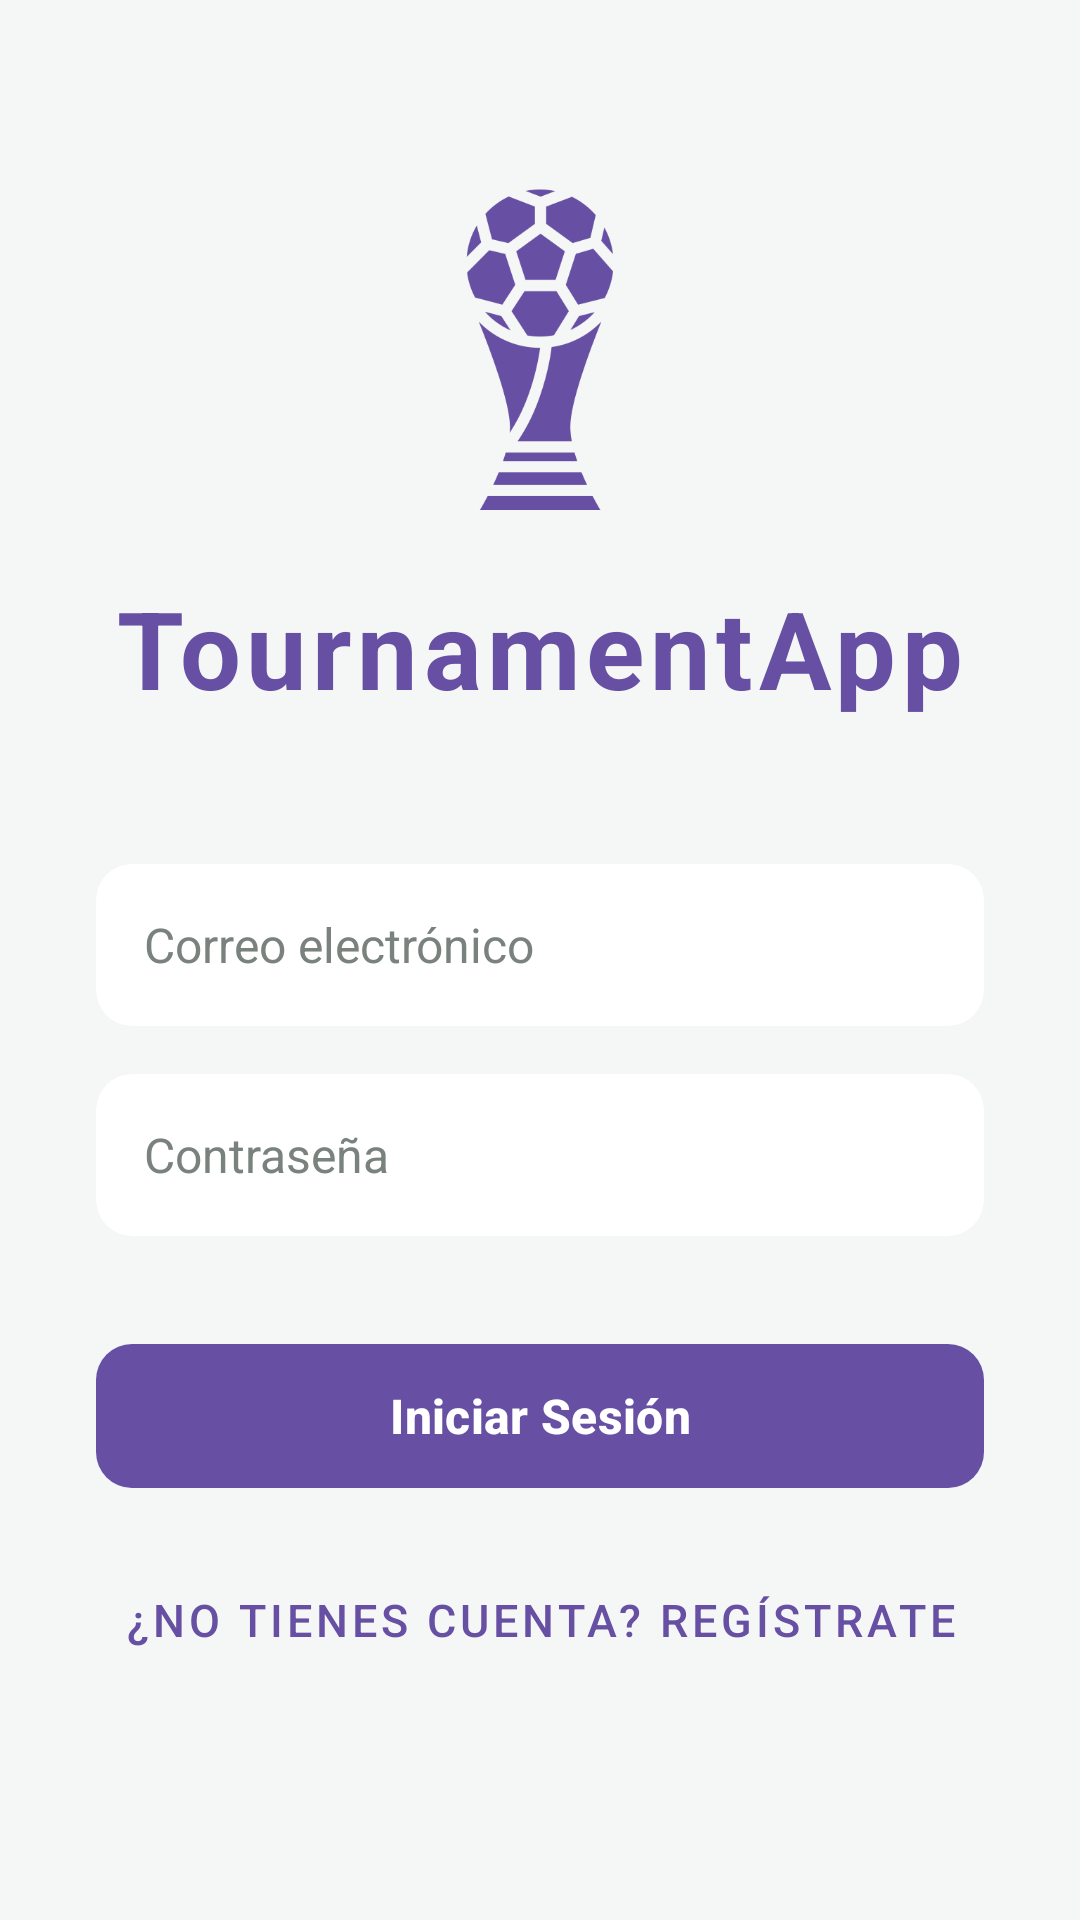

Icon bounding boxes for this 1080 x 1920 phone screenshot, format BBox(x1, y1, x2, y2):
trofeo de futbol: BBox(467, 189, 613, 510)
